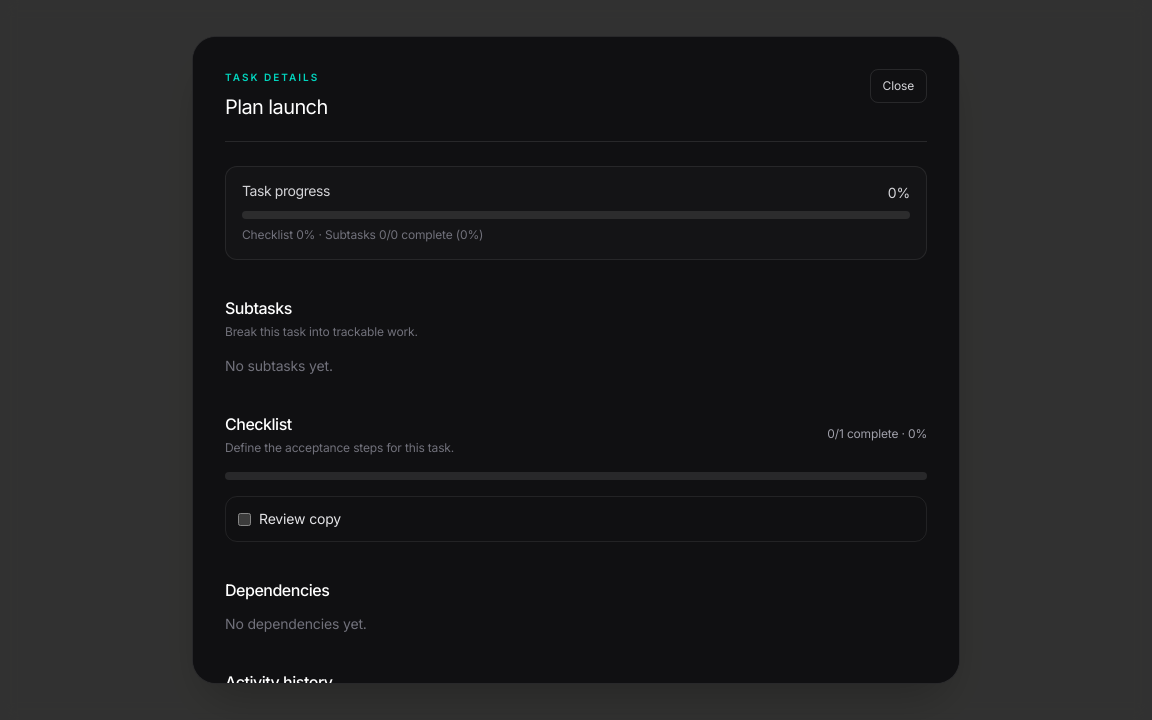
Test: task details GraphQL integration › updates completion and refetches checklist counts and activity
The image size is (1152, 720).
Click the checkbox named "Complete Review copy" at (244, 519), box left=238, top=512, right=251, bottom=526
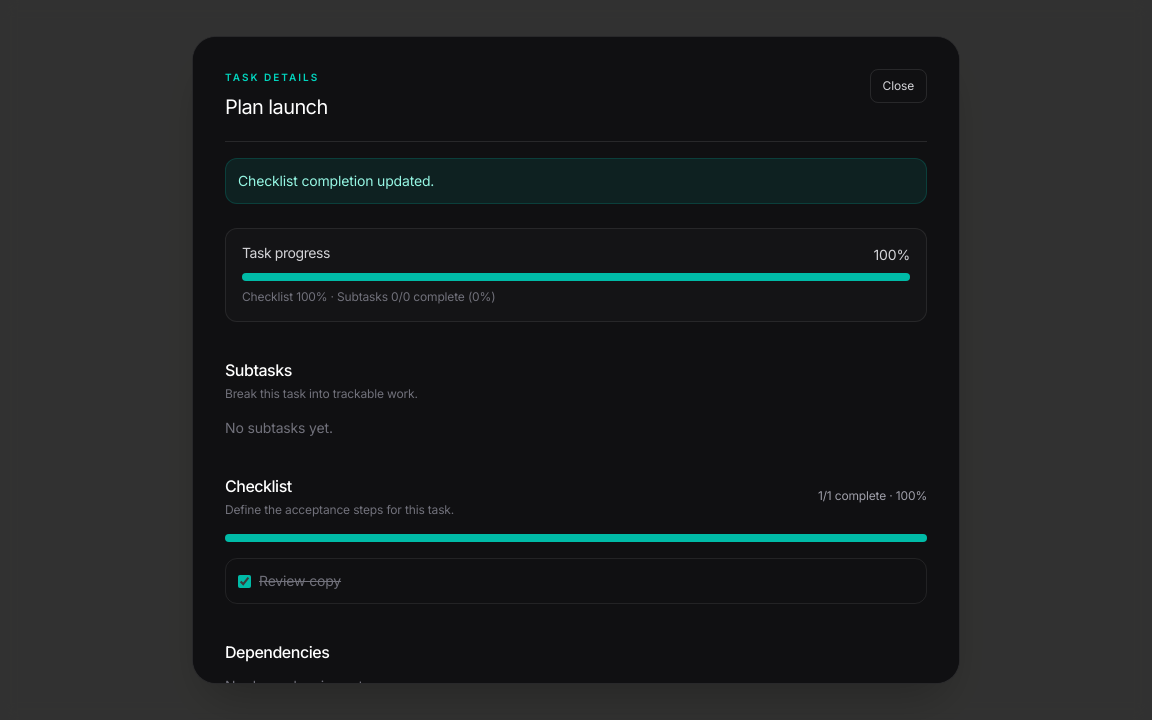
Now the checkbox named "Complete Review copy" is checked, box left=238, top=574, right=251, bottom=588
Now the text "1/1 complete · 100%" is shown, box left=818, top=488, right=927, bottom=504
